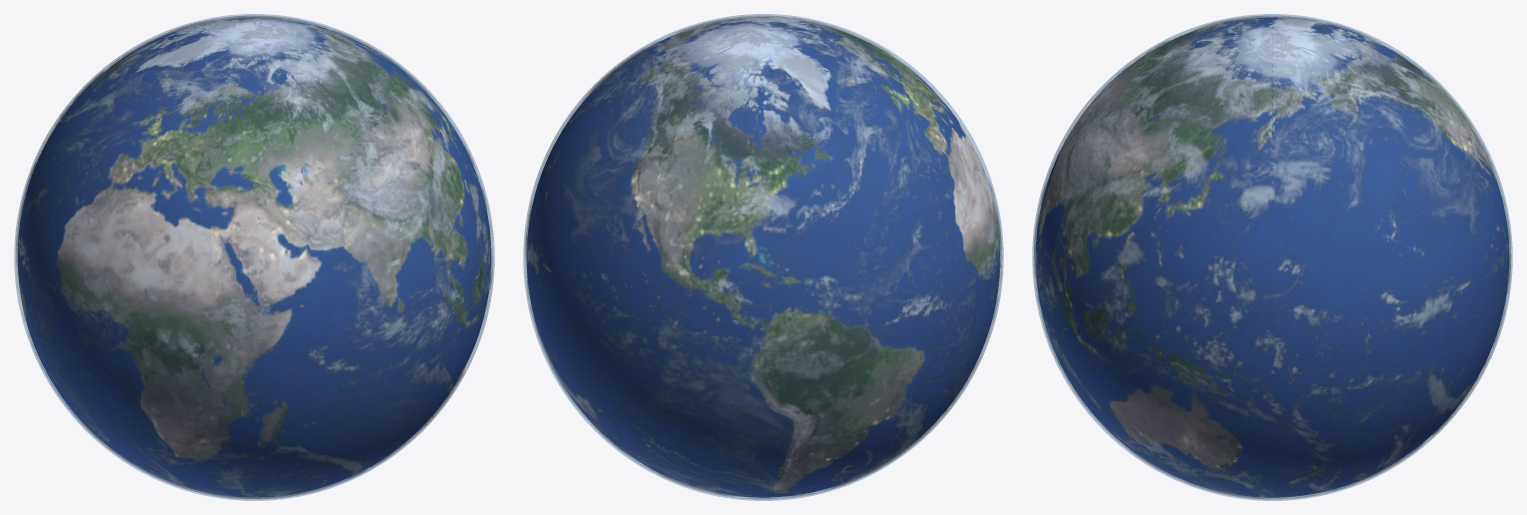
The model's file is earth4k_compressed.glb.
The picture shows the model from 3 angles, left to right: view 1: azimuth 30°, elevation 25°; view 2: azimuth 150°, elevation 25°; view 3: azimuth 270°, elevation 25°; orthographic projection.
Visible parts, largest first — view 1: pSphere5, pSphere1, pSphere4; view 2: pSphere5, pSphere1, pSphere4; view 3: pSphere5, pSphere1, pSphere4.
Part boxes in pixels (<box>): pSphere5: <box>14,14,494,500</box>; pSphere1: <box>17,17,491,497</box>; pSphere4: <box>16,15,493,499</box>; pSphere5: <box>523,14,1003,500</box>; pSphere1: <box>526,17,1000,497</box>; pSphere4: <box>525,15,1002,499</box>; pSphere5: <box>1032,14,1512,500</box>; pSphere1: <box>1035,17,1509,497</box>; pSphere4: <box>1034,15,1510,499</box>.
Size of the model in its own units: 192 by 196 by 192.
Materials: 3 (2 with a texture image).
